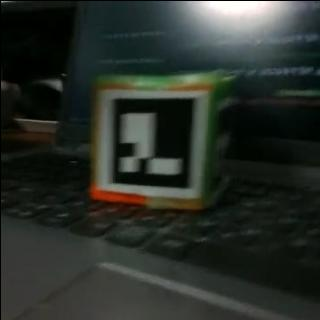armor: (96, 86, 206, 192)
robot: (88, 70, 236, 208)
